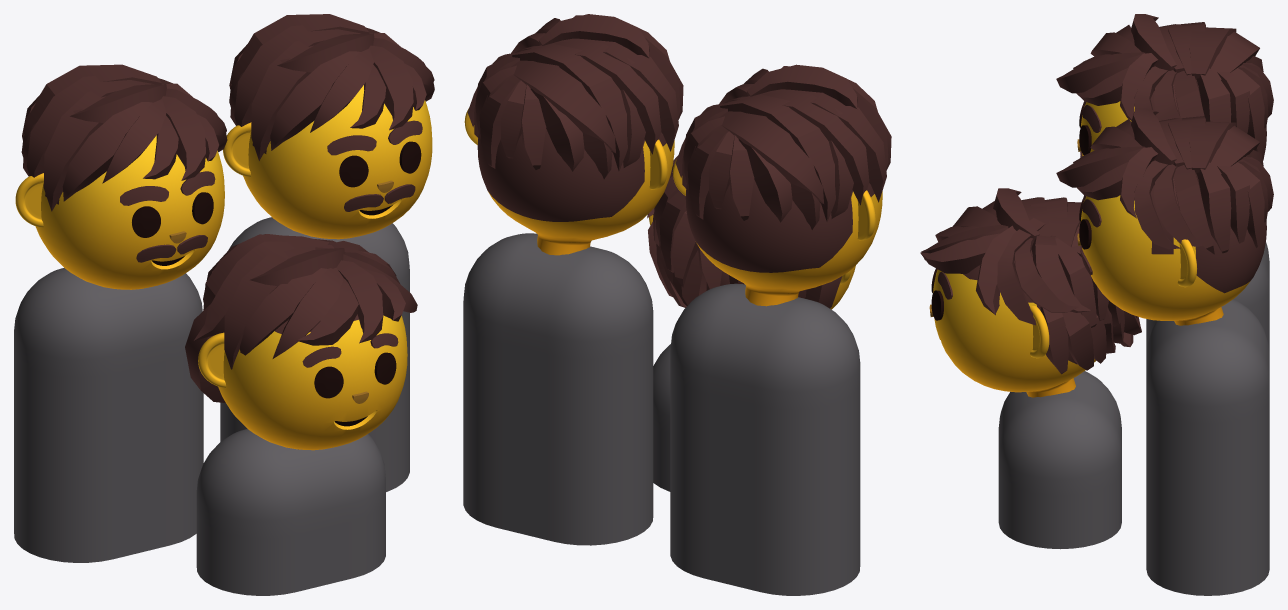
File: Family__Man_Man_Boy.gltf
3 views of the same model, side by side, from view 1: azimuth 30°, elevation 25°; view 2: azimuth 150°, elevation 25°; view 3: azimuth 270°, elevation 25° (orthographic). The views are drawn at different scales.
Parts seen in each view (by area): view 1: Sphere.274, Sphere.273, Cube.4081, Cube.4113, Cube.4135, Roundcube.328, Roundcube.330, Roundcube.329, Sphere.275, Circle.1448, Circle.1455, Circle.1451 (+8 smaller); view 2: Sphere.275, Sphere.274, Cube.4135, Cube.4113, Roundcube.330, Roundcube.329, Cube.4081, Sphere.273, Cylinder.269, Cylinder.270; view 3: Sphere.275, Cube.4135, Cube.4081, Sphere.273, Cube.4113, Roundcube.330, Roundcube.328, Sphere.274, Roundcube.329, Cylinder.268, Cylinder.270.
Boxes of the visible parts, x1=… form: Sphere.274: x1=14, y1=268, x2=203, y2=562; Sphere.273: x1=196, y1=429, x2=385, y2=595; Cube.4081: x1=185, y1=234, x2=417, y2=402; Cube.4113: x1=21, y1=64, x2=227, y2=211; Cube.4135: x1=229, y1=14, x2=434, y2=160; Roundcube.328: x1=218, y1=314, x2=407, y2=450; Roundcube.330: x1=243, y1=85, x2=432, y2=239; Roundcube.329: x1=35, y1=135, x2=224, y2=289; Sphere.275: x1=220, y1=217, x2=409, y2=491; Circle.1448: x1=314, y1=352, x2=396, y2=398; Circle.1455: x1=339, y1=141, x2=421, y2=187; Circle.1451: x1=132, y1=192, x2=213, y2=237; Sphere.275: x1=463, y1=233, x2=653, y2=545; Sphere.274: x1=670, y1=283, x2=860, y2=595; Cube.4135: x1=467, y1=14, x2=683, y2=179; Cube.4113: x1=675, y1=64, x2=891, y2=229; Roundcube.330: x1=477, y1=128, x2=674, y2=255; Roundcube.329: x1=685, y1=179, x2=882, y2=306; Cube.4081: x1=647, y1=155, x2=842, y2=308; Sphere.273: x1=653, y1=344, x2=670, y2=491; Cylinder.269: x1=672, y1=159, x2=875, y2=240; Cylinder.270: x1=464, y1=108, x2=667, y2=189; Sphere.275: x1=1146, y1=299, x2=1269, y2=595; Cube.4135: x1=1056, y1=108, x2=1273, y2=254; Cube.4081: x1=920, y1=188, x2=1141, y2=374; Sphere.273: x1=998, y1=371, x2=1121, y2=549; Cube.4113: x1=1056, y1=14, x2=1273, y2=151; Roundcube.330: x1=1080, y1=161, x2=1266, y2=325; Roundcube.328: x1=933, y1=250, x2=1095, y2=397; Sphere.274: x1=1146, y1=242, x2=1269, y2=354; Roundcube.329: x1=1080, y1=67, x2=1266, y2=160; Cylinder.268: x1=1030, y1=306, x2=1049, y2=358; Cylinder.270: x1=1177, y1=239, x2=1197, y2=287.
Bounding box in the file's own units: 2.36 × 2.58 × 1.9.
6 materials, 2 textured.
